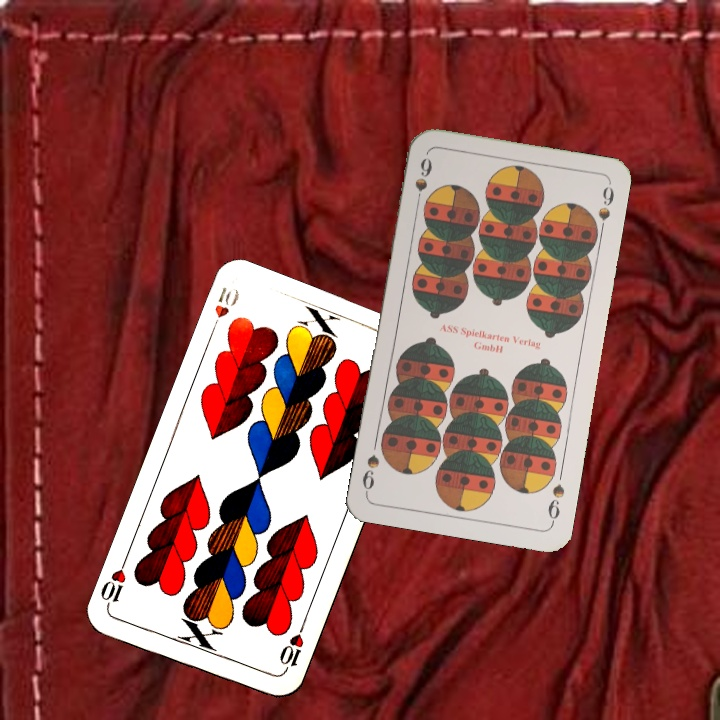H10: (275, 620, 307, 676), (206, 282, 233, 337)
S9: (411, 154, 435, 210), (543, 480, 567, 527)
